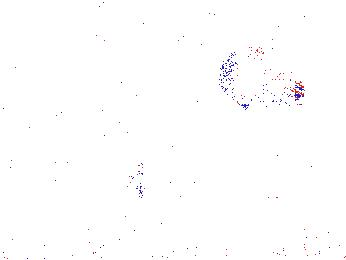flame jellyfish: (219, 49, 306, 110), (221, 169, 292, 221), (128, 160, 187, 210)
